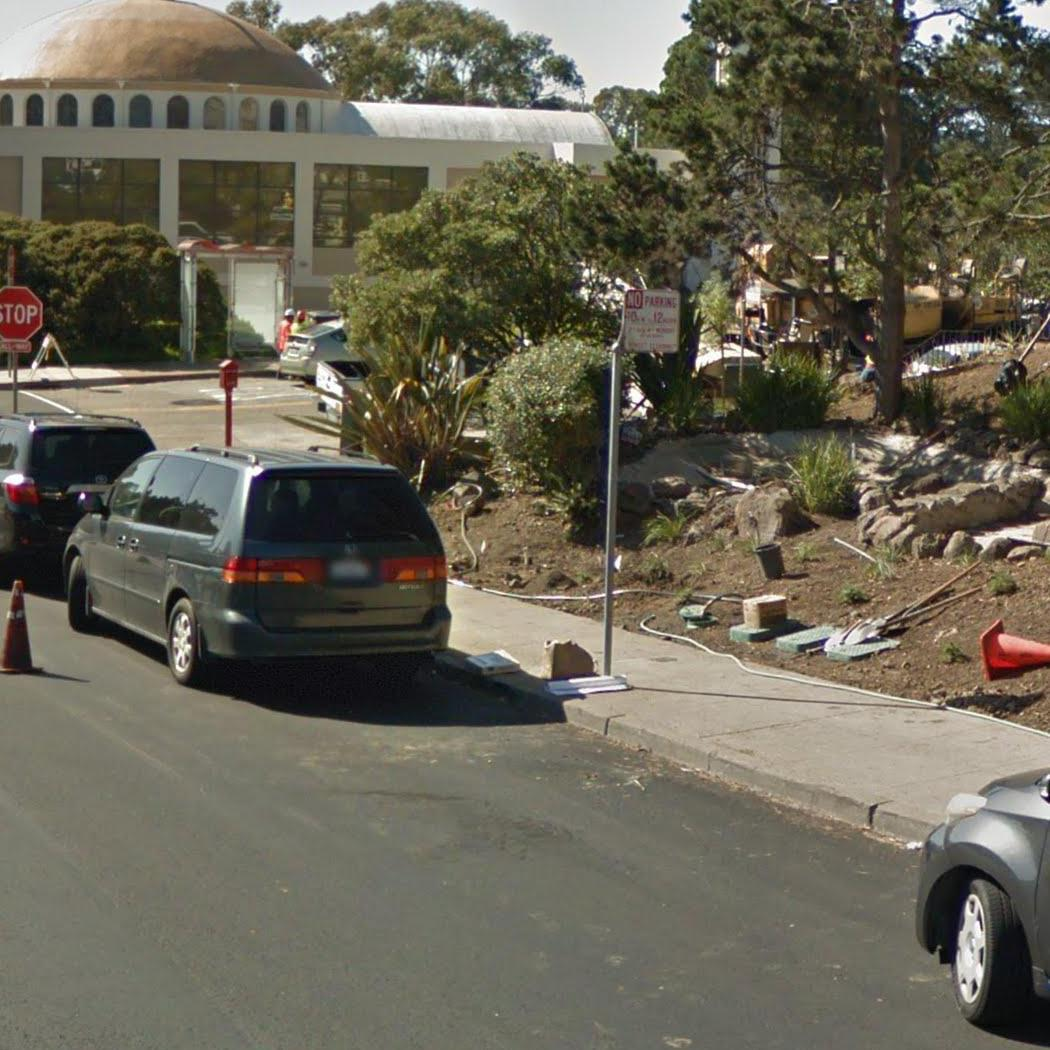No Parking: (616, 285, 684, 357)
